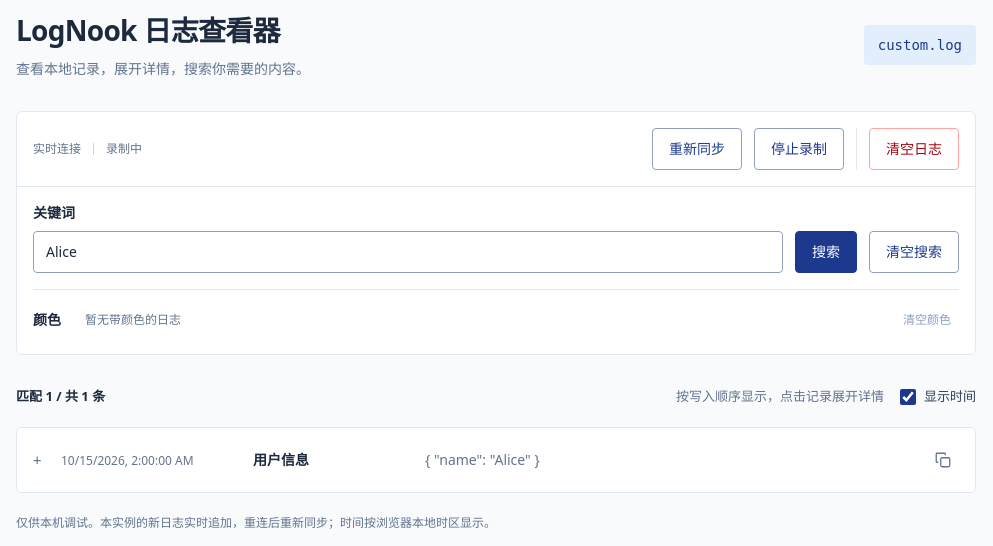
Test: disconnect and unmount abort pending controls and never apply late results
Click the button "停止录制": (799, 149) left=754, top=128, right=844, bottom=170
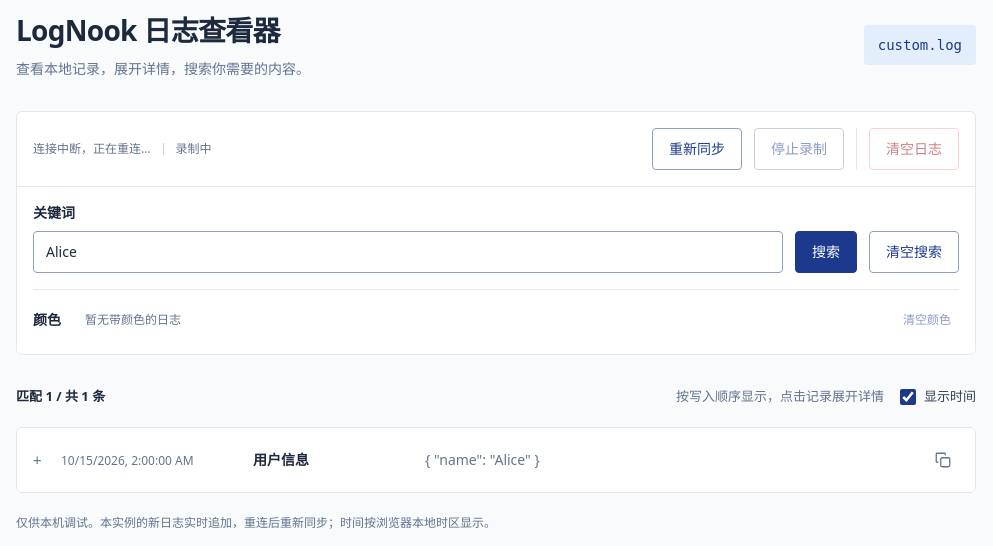
Check: the button "停止录制" is disabled, box left=754, top=128, right=844, bottom=170
